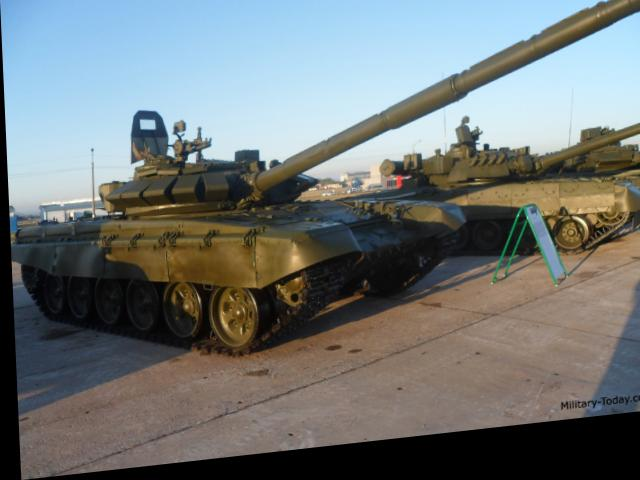tank: (19, 141, 444, 350), (371, 123, 640, 270)
